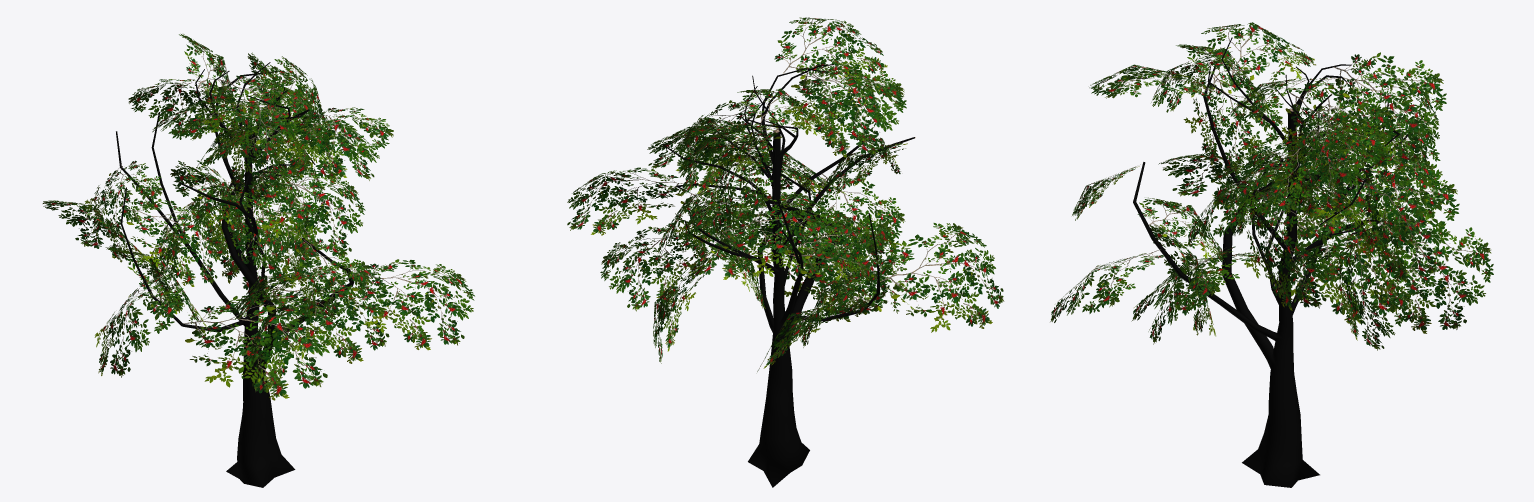
File: HornedHollyTree_3.fbx
3 renders of one model, left to right at view 1: azimuth 30°, elevation 25°; view 2: azimuth 150°, elevation 25°; view 3: azimuth 270°, elevation 25°, orthographic. The views are drawn at different scales.
Visible parts, largest first — view 1: HornedHollyTree_3; view 2: HornedHollyTree_3; view 3: HornedHollyTree_3.
Part boxes in pixels (box(x1,y1,x2,y2)): HornedHollyTree_3: box(42, 34, 474, 487); HornedHollyTree_3: box(567, 17, 1004, 487); HornedHollyTree_3: box(1050, 22, 1493, 487).
Size of the model in its own units: 296 by 352 by 345.
